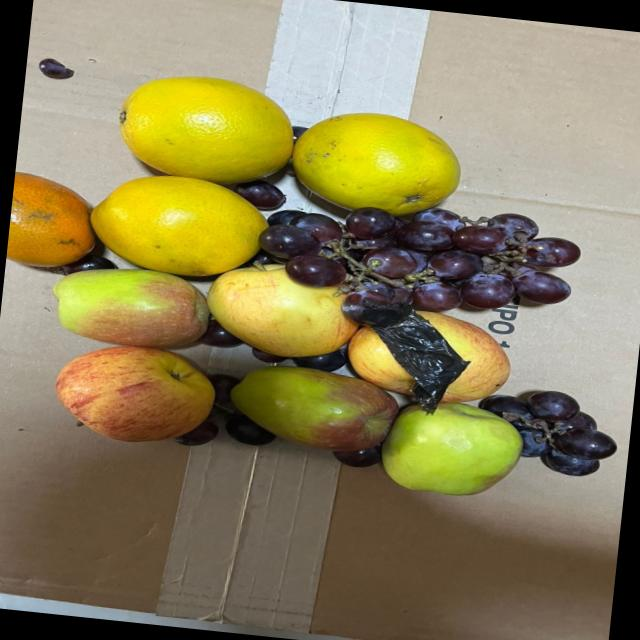bolsa_negra: (360, 307, 470, 414)
